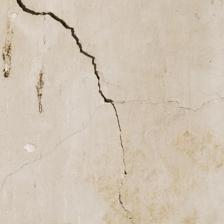Crack: (38, 9, 149, 109), (8, 9, 120, 96), (64, 158, 151, 186)
